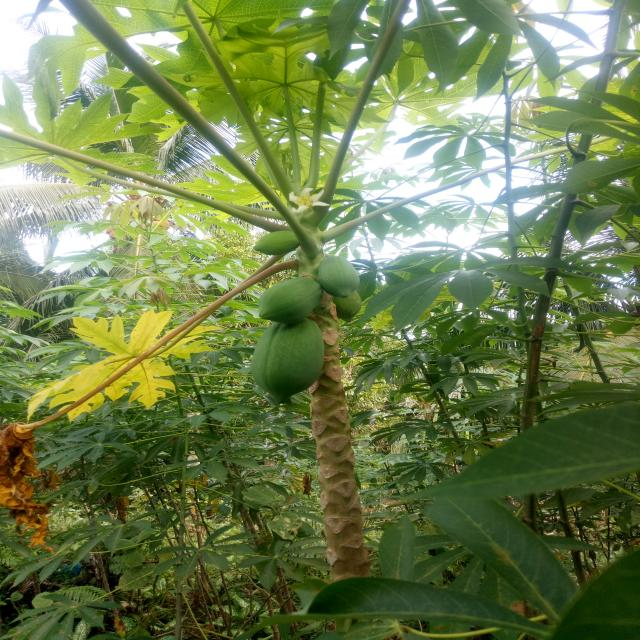Pepaya unrippen: (245, 322, 328, 402), (254, 280, 319, 324), (320, 254, 360, 302)
